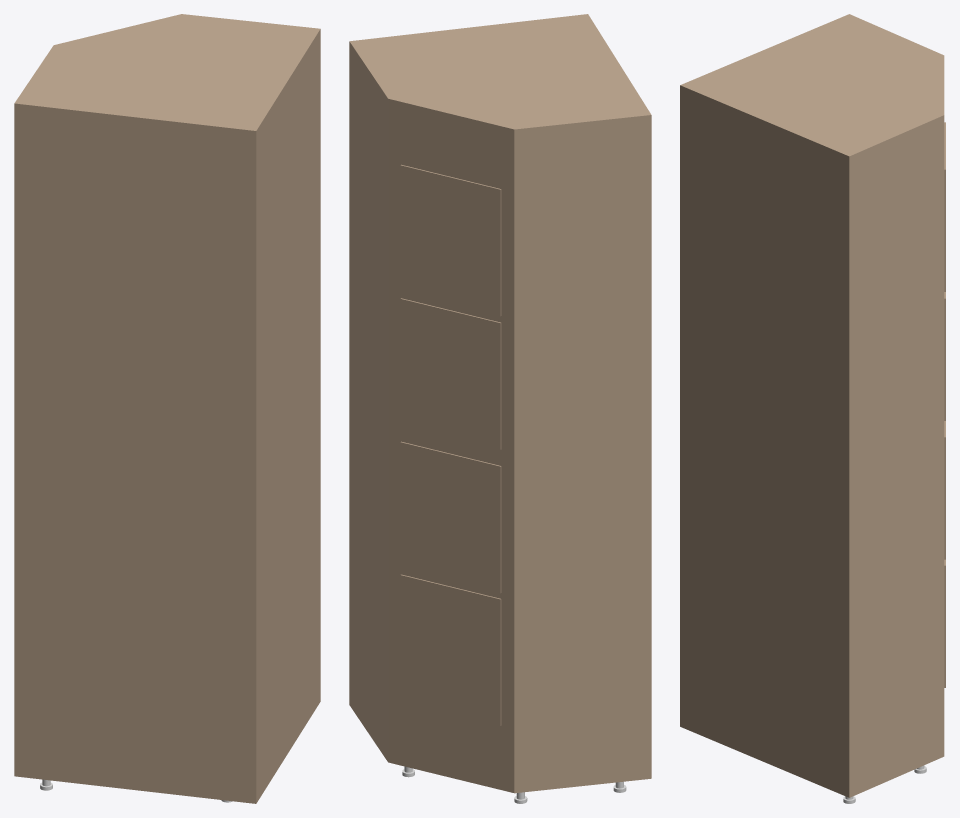
3 views of the same model, side by side, from view 1: azimuth 30°, elevation 25°; view 2: azimuth 150°, elevation 25°; view 3: azimuth 270°, elevation 25° (orthographic). The views are drawn at different scales.
Parts seen in each view (by area): view 1: cabinet; view 2: cabinet; view 3: cabinet.
Boxes of the visible parts, box(x1,y1,x2,y2) form: cabinet: box(14, 14, 320, 803); cabinet: box(349, 14, 651, 803); cabinet: box(680, 14, 945, 803).
Bounding box in the file's own units: 0.926 × 2 × 0.73.
